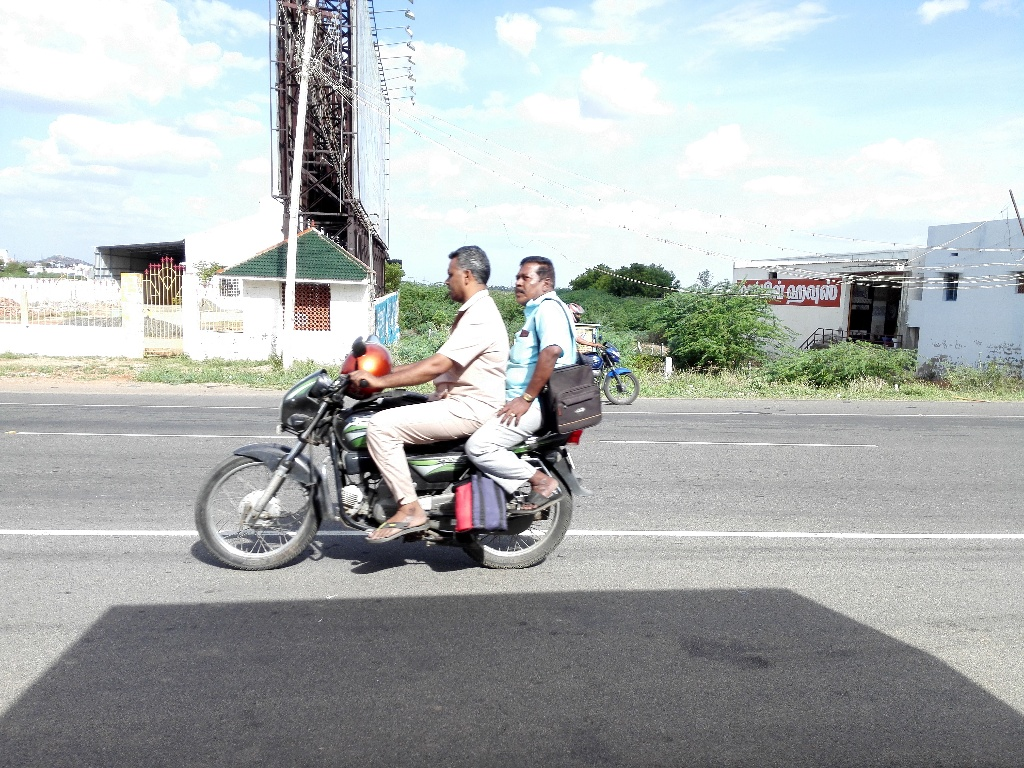biker: (173, 186, 661, 608), (563, 278, 646, 422)
helmet: (565, 293, 592, 331)
nohelmet: (436, 238, 501, 311), (504, 241, 558, 311)
